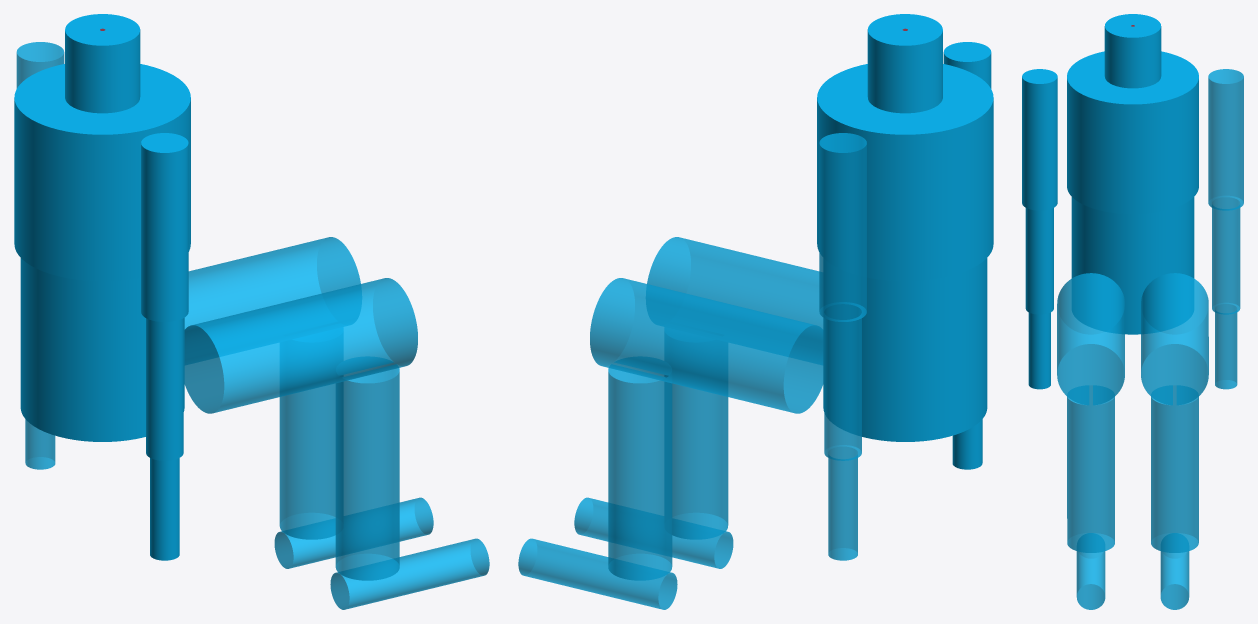
The model's file is blocky_human.glb.
3 views of the same model, side by side, from view 1: azimuth 30°, elevation 25°; view 2: azimuth 150°, elevation 25°; view 3: azimuth 270°, elevation 25° (orthographic). The views are drawn at different scales.
Visible parts, largest first — view 1: 实体 (×7); view 2: 实体 (×7); view 3: 实体 (×7).
Boxes of the visible parts, <box> form: 实体 (×7): <box>14,14,489,609</box>; 实体 (×7): <box>518,14,993,609</box>; 实体 (×7): <box>1022,14,1243,609</box>.
Size of the model in its own units: 0.7908 by 1.08 by 0.4764.
